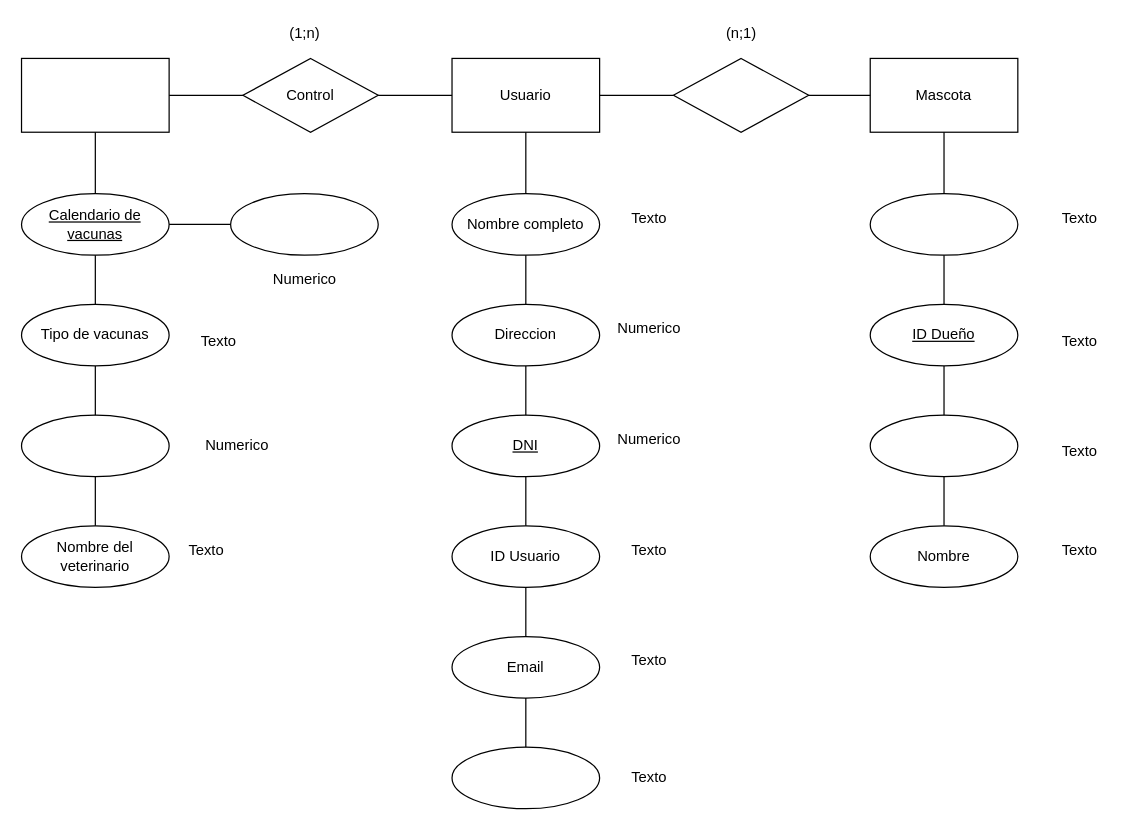
Some shapes in this 1125 by 830 pixel diagram are drawn without their labels. The shapes that lost their labels are listed below. From the top down, each one's centre as x and y in pixels, then its label:
the point at 94,94: Veterinaria
the point at 740,94: Tiene
the point at 303,223: Fecha
the point at 943,223: Tipo
the point at 94,445: Cantidad de vacunas
the point at 943,445: Raza
the point at 525,777: Contraseña
